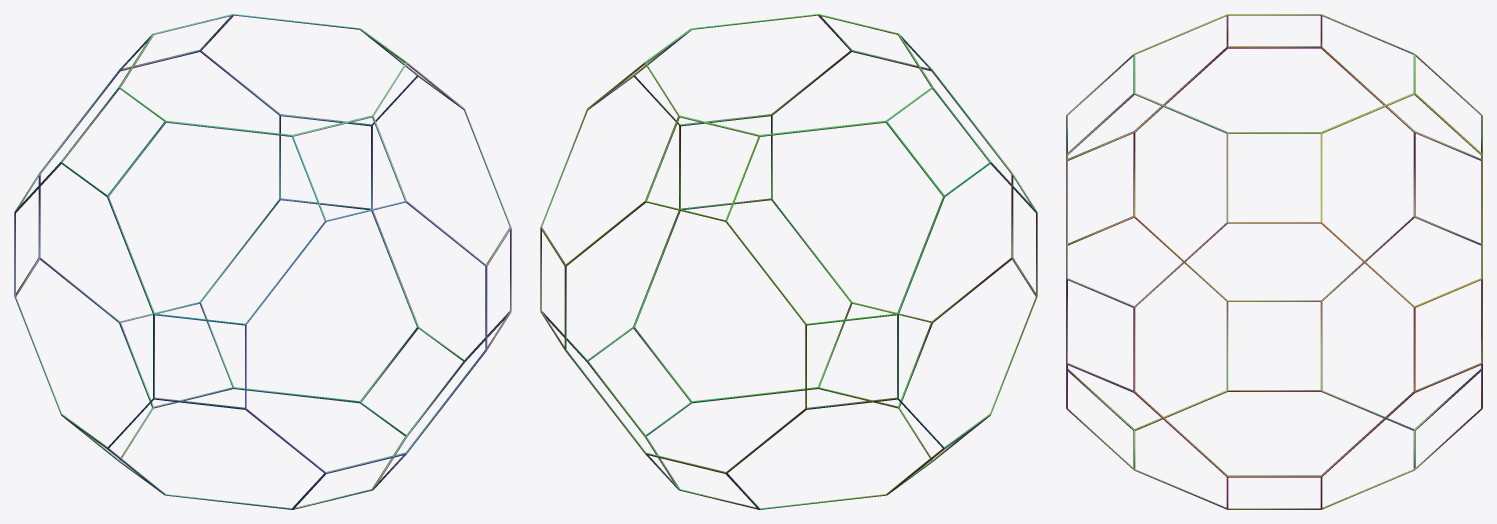
Rendered from zeometry-wireframes-wire-truncated-cuboctahedron_v1.glb.
3 renders of one model, left to right at view 1: azimuth 30°, elevation 25°; view 2: azimuth 150°, elevation 25°; view 3: azimuth 270°, elevation 25°, orthographic.
Visible parts, largest first — view 1: Wire Truncated Cuboctahedron; view 2: Wire Truncated Cuboctahedron; view 3: Wire Truncated Cuboctahedron.
Boxes of the visible parts, box(x1,y1,x2,y2) form: Wire Truncated Cuboctahedron: box(14, 14, 511, 509); Wire Truncated Cuboctahedron: box(540, 14, 1037, 509); Wire Truncated Cuboctahedron: box(1066, 14, 1482, 509).
Size of the model in its own units: 0.5 by 0.5 by 0.5.
